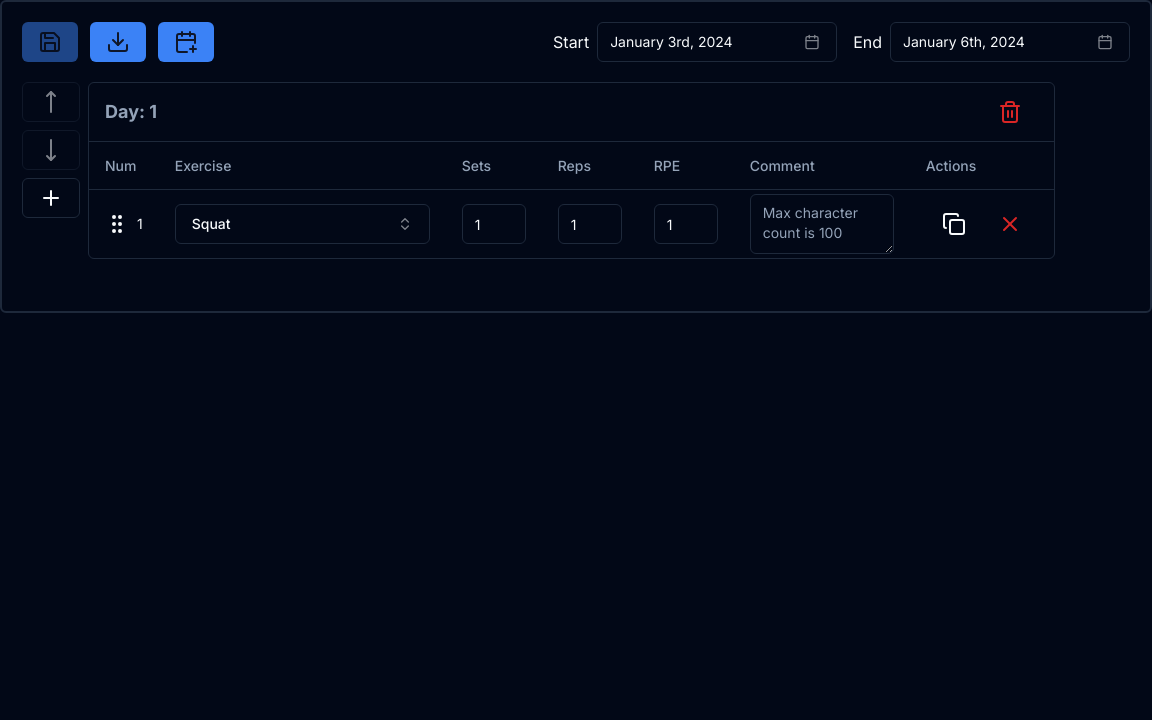
Test: Schedule › disables move down button for last visible day
The image size is (1152, 720).
Click the button named "add day" at (186, 42), box [158, 22, 214, 62]
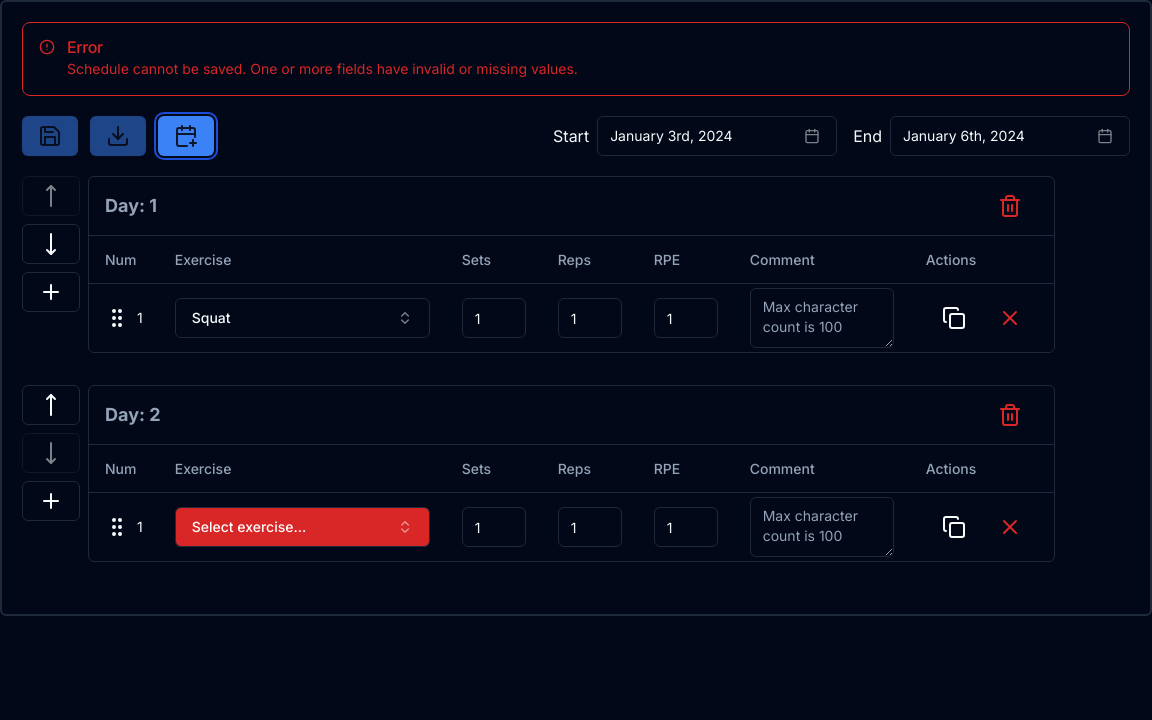
Click the 1st button named "move down" at (51, 244), box [22, 224, 80, 264]
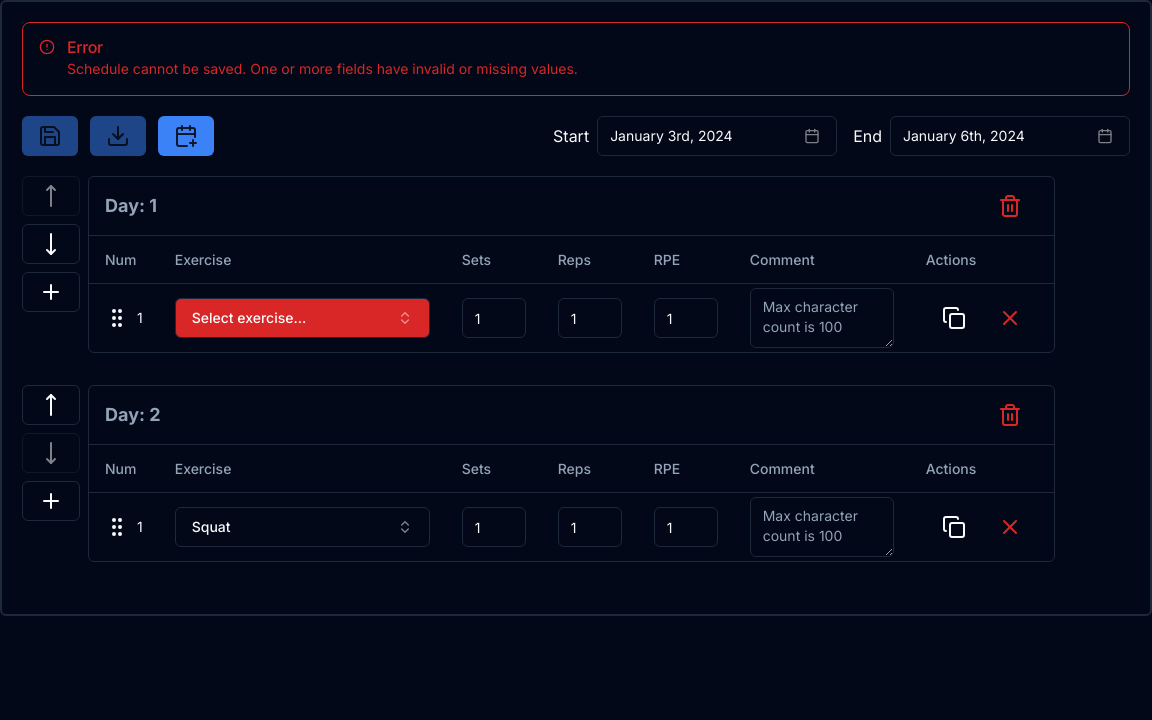
Click the 2nd button named "delete day" at (1010, 415), box [982, 395, 1038, 435]
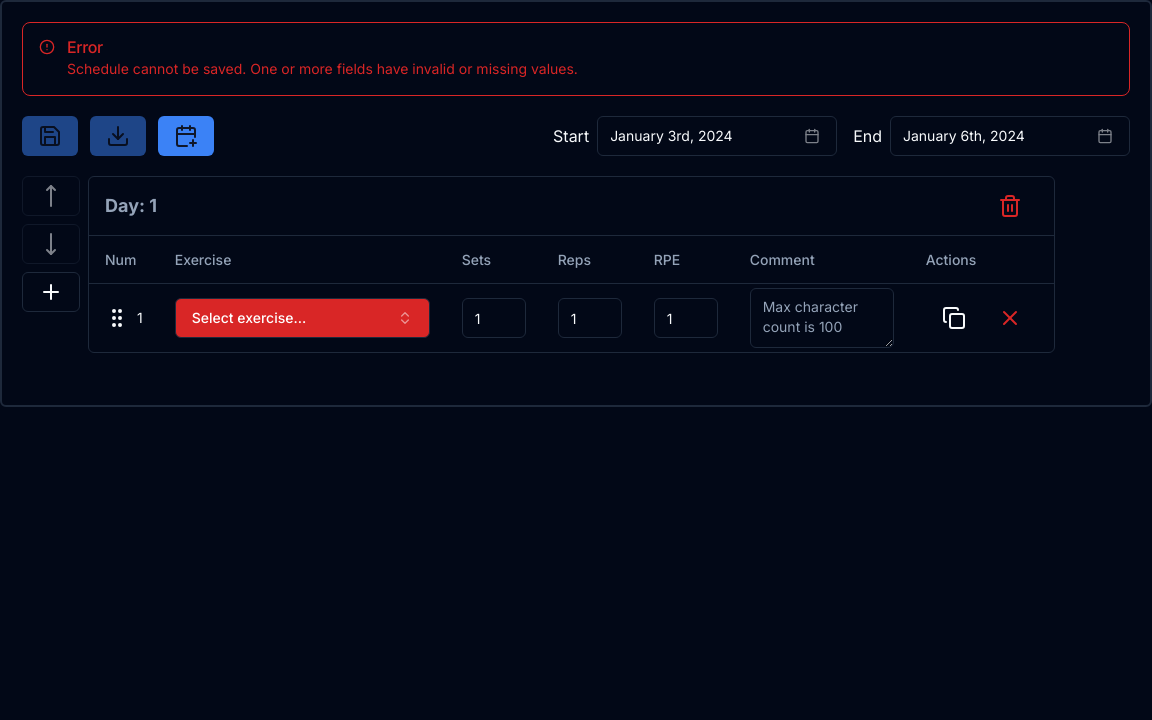
Expected: the button named "move down" is disabled, [22, 224, 80, 264]
